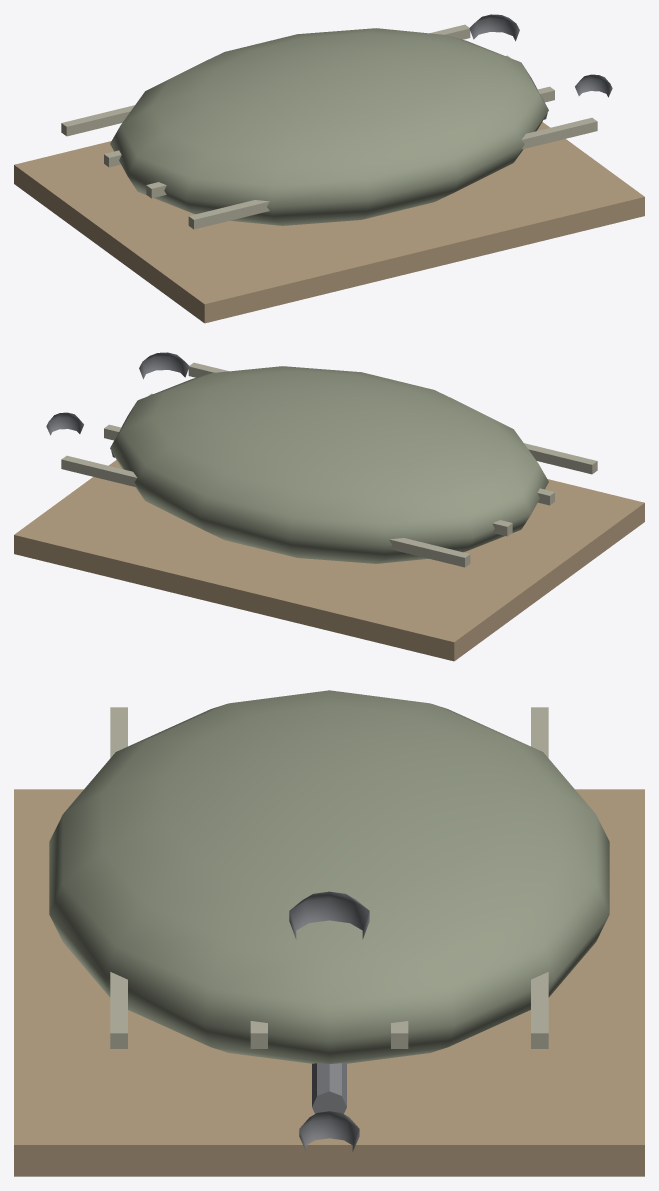
The model's file is armoured-column-and-field-camp-water-bladder-b5ebc75e__23722.glb.
3 views of the same model, one above another, from view 1: azimuth 30°, elevation 25°; view 2: azimuth 150°, elevation 25°; view 3: azimuth 270°, elevation 25° (orthographic). The views are drawn at different scales.
Parts seen in each view (by area): view 1: water-bladder; view 2: water-bladder; view 3: water-bladder.
Boxes of the visible parts, bbox=[...] form: water-bladder: bbox=[14, 14, 644, 323]; water-bladder: bbox=[14, 352, 644, 661]; water-bladder: bbox=[14, 690, 644, 1176].
Size of the model in its own units: 2.73 by 0.7199 by 1.8.
